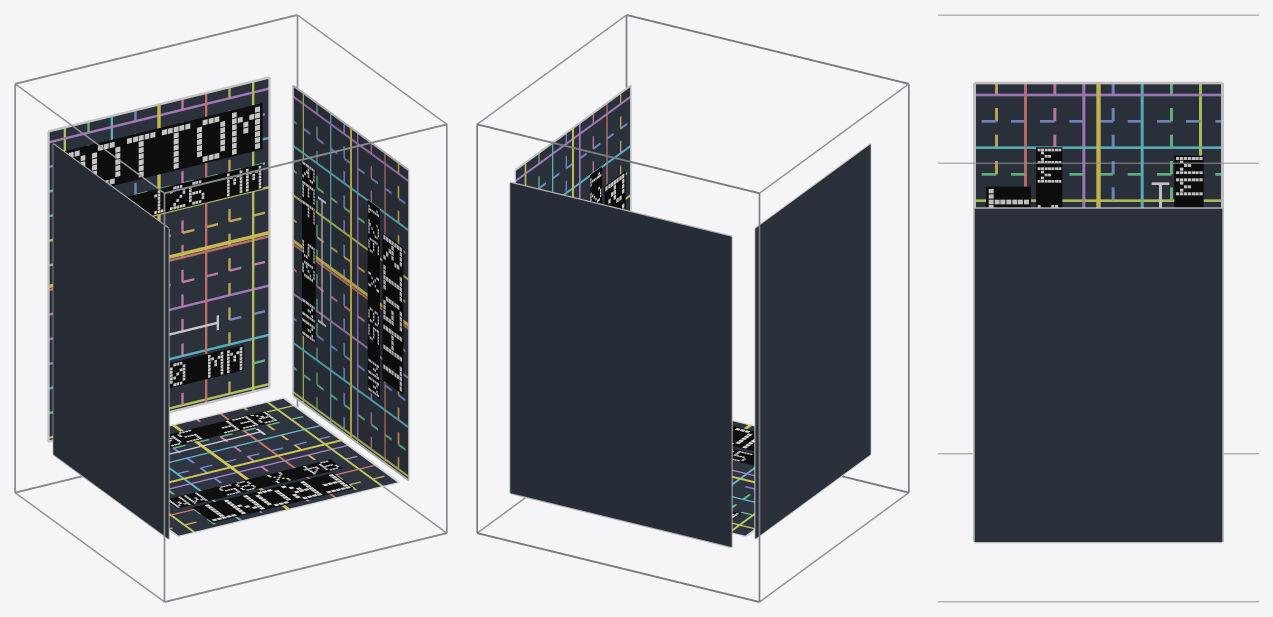
File: rig_geometry_grid.glb
3 renders of one model, left to right at view 1: azimuth 30°, elevation 25°; view 2: azimuth 150°, elevation 25°; view 3: azimuth 270°, elevation 25°, orthographic. The views are drawn at different scales.
Bounding box in the file's own units: 121 × 167 × 110.
